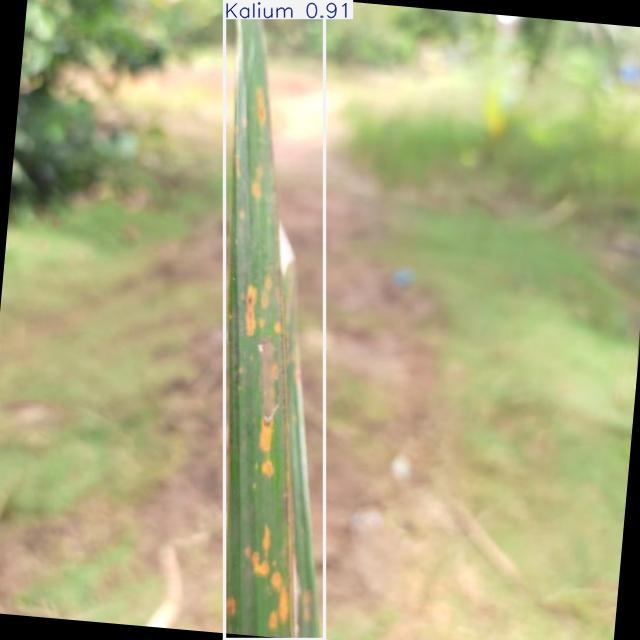Kalium: (224, 0, 324, 639)
